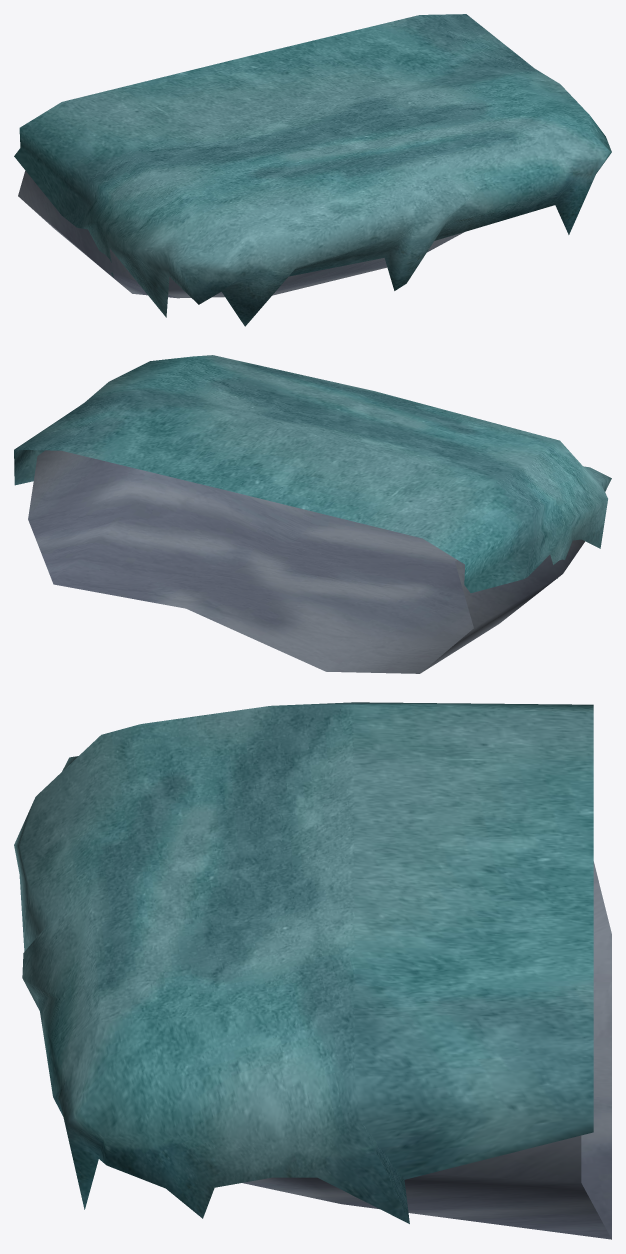
The model's file is pedraGelo.fbx.
3 views of the same model, one above another, from view 1: azimuth 30°, elevation 25°; view 2: azimuth 150°, elevation 25°; view 3: azimuth 270°, elevation 25° (orthographic). The views are drawn at different scales.
Visible parts, largest first — view 1: Box001_001_001; view 2: Box001_001_001; view 3: Box001_001_001.
Boxes of the visible parts, x1=… form: Box001_001_001: x1=14, y1=14, x2=611, y2=326; Box001_001_001: x1=14, y1=355, x2=611, y2=673; Box001_001_001: x1=14, y1=702, x2=611, y2=1239.
Size of the model in its own units: 34.69 by 11.11 by 22.05.
